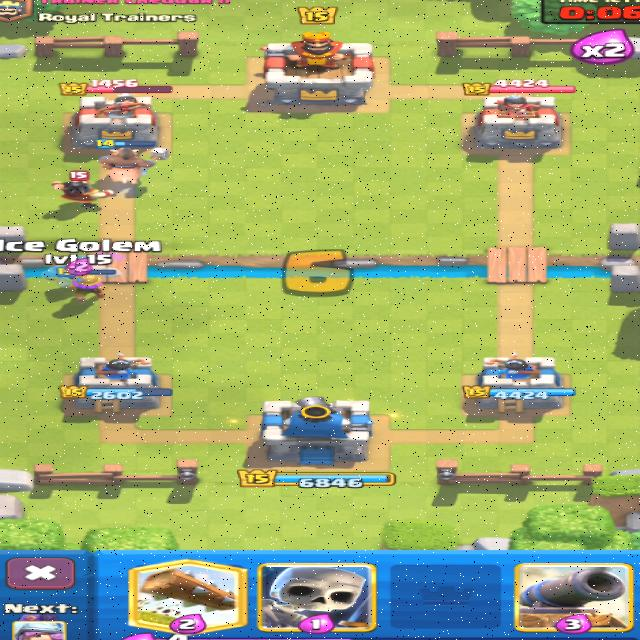Enemy-ElectroWizard: (52, 171, 113, 204)
Enemy-KingTower: (264, 33, 373, 105)
Enemy-PrincessTower: (471, 95, 561, 155), (72, 94, 157, 148)
Player-HogRider: (99, 148, 169, 184)
Player-KingTower-Activated: (261, 396, 373, 465)
Player-Musketeer: (72, 274, 103, 302)
Player-PrincessTower: (464, 354, 573, 412), (74, 354, 172, 411)
